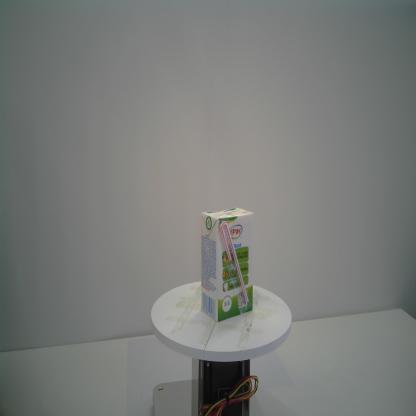Milk: (200, 206, 255, 324)
